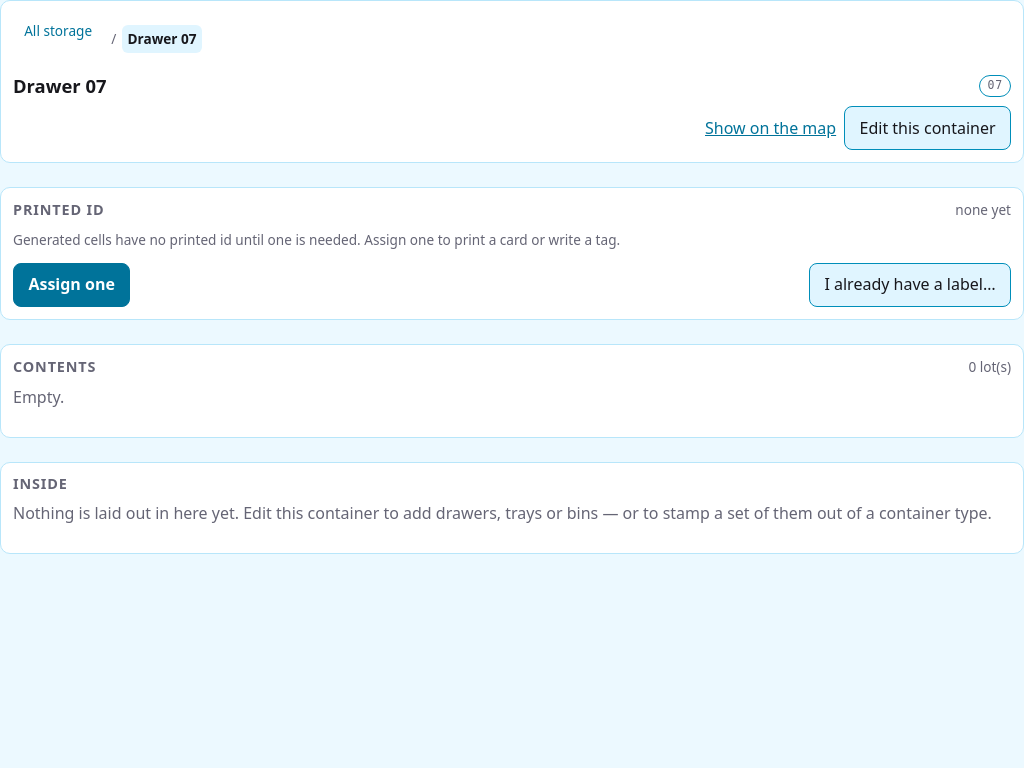
Scenario: the printed id › explains a failed check symbol as a misread, not as invalid input
Click the button "I already have a label…": (910, 285) [809,263,1011,307]
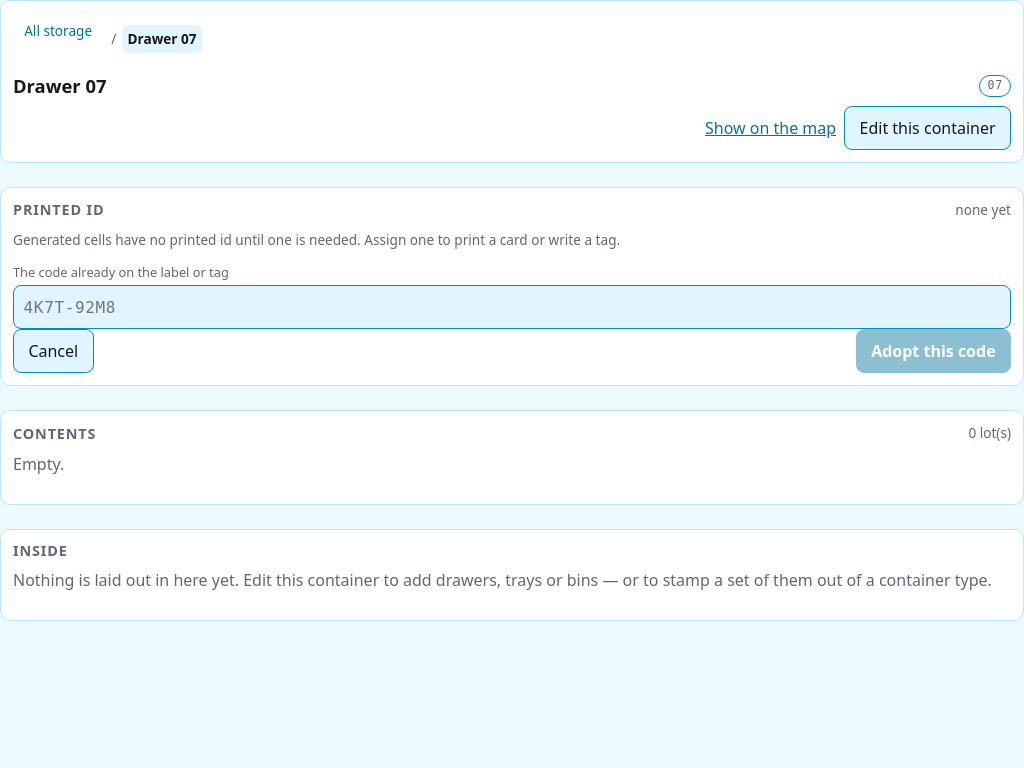
In the field: (512, 307) [13,285,1011,329], type "4K7T-92MQ"
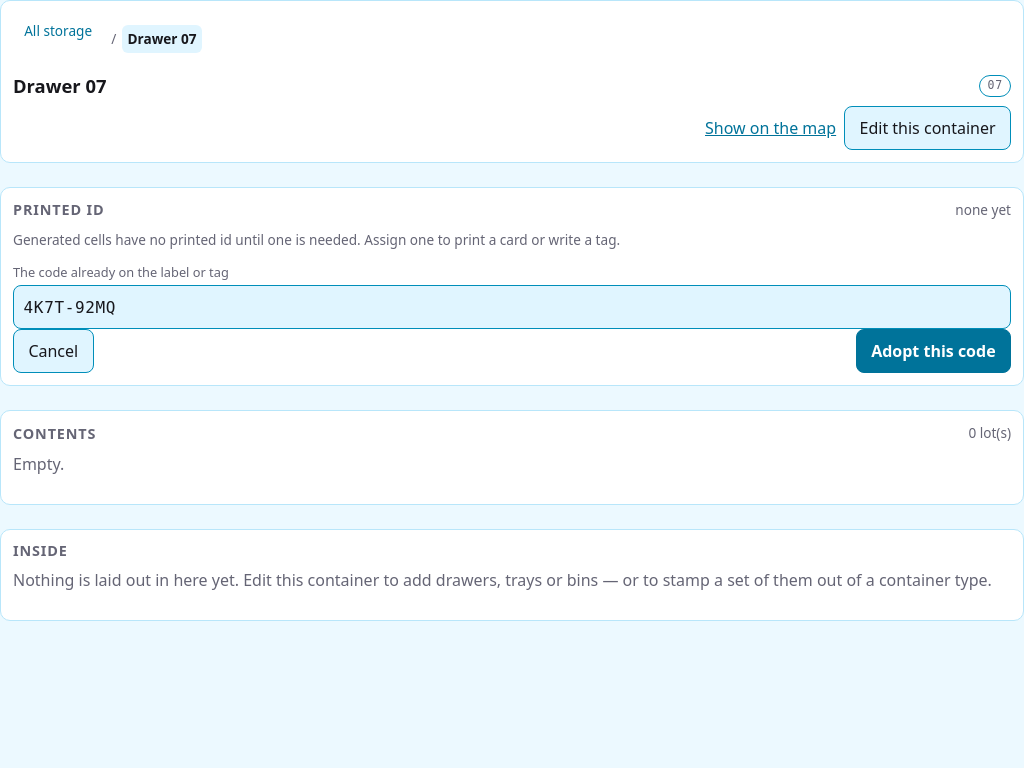
Click the button "Adopt this code": (933, 351) [856,329,1011,373]
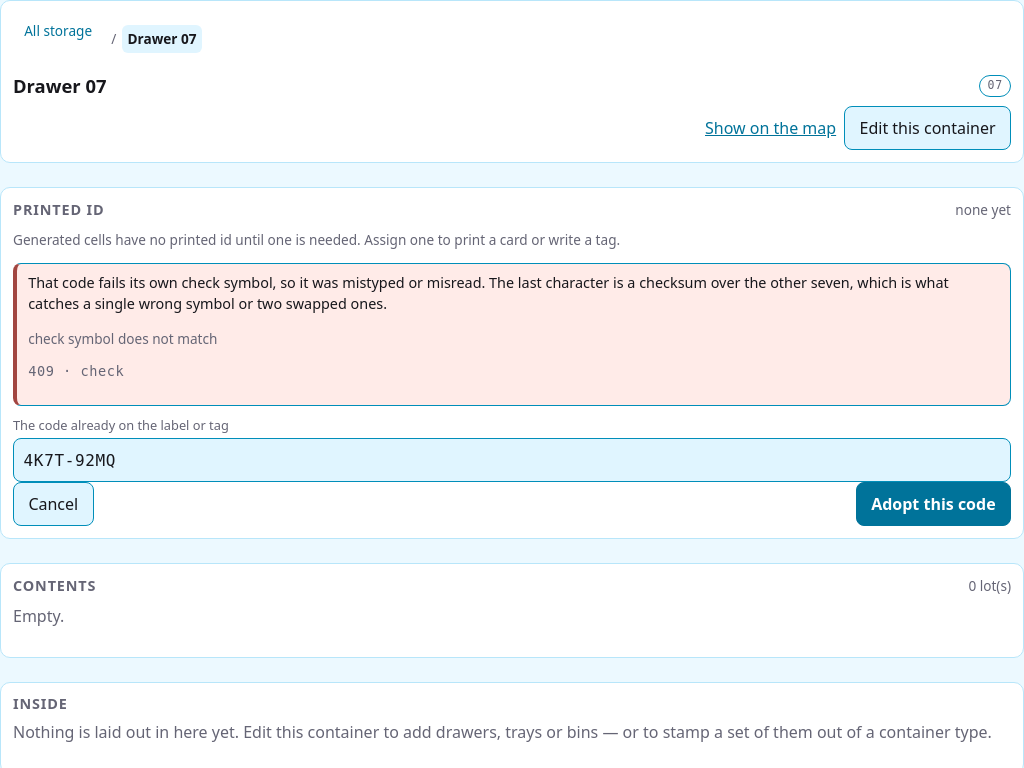
expect the text "mistyped or misread" is shown: met, box [28,274,949,313]
